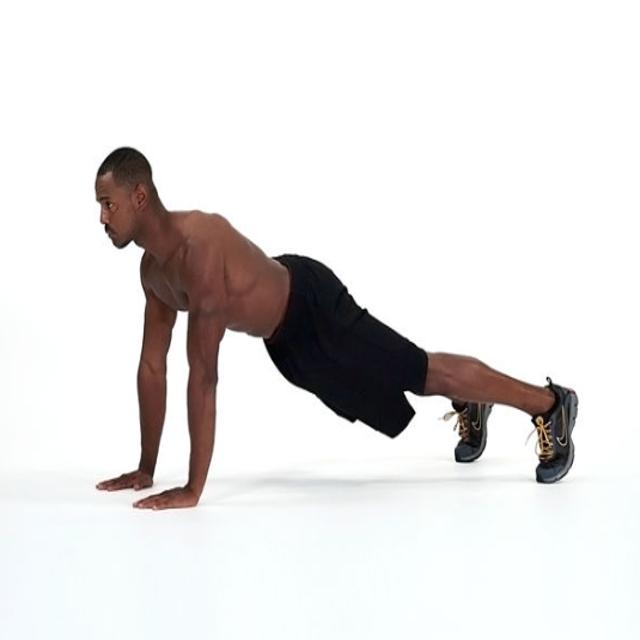Plank_Pose: (91, 143, 592, 520)
